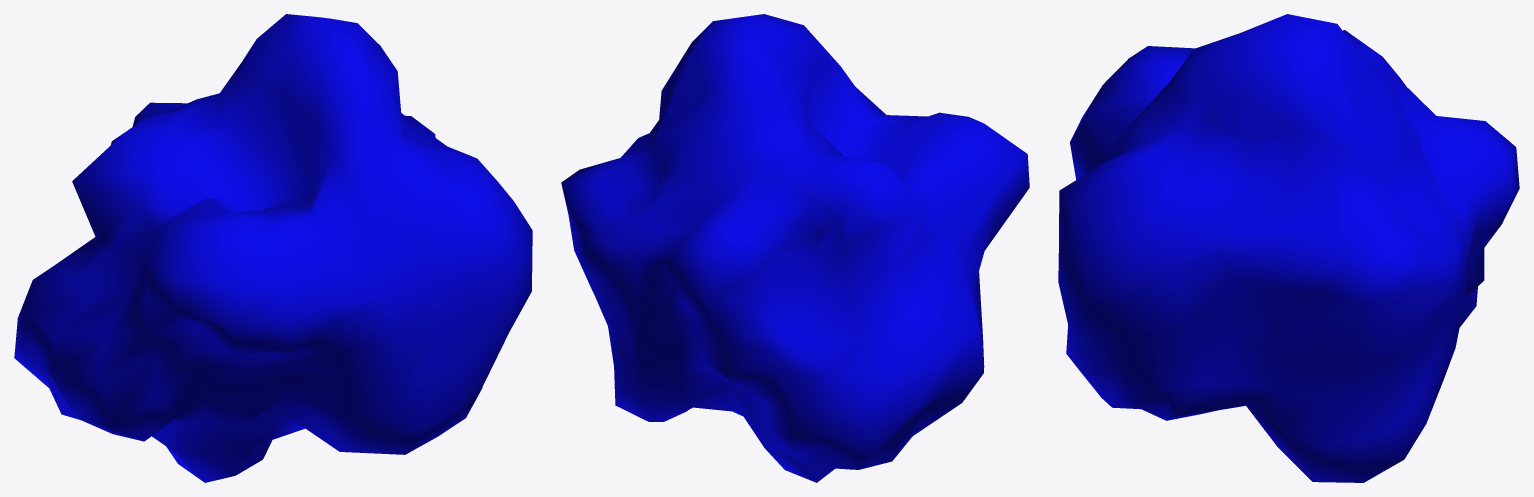
Rendered from popcorn_piece_01_high.fbx.
3 renders of one model, left to right at view 1: azimuth 30°, elevation 25°; view 2: azimuth 150°, elevation 25°; view 3: azimuth 270°, elevation 25°, orthographic. The views are drawn at different scales.
Visible parts, largest first — view 1: popcorn_piece_01; view 2: popcorn_piece_01; view 3: popcorn_piece_01.
Boxes of the visible parts, <box> form: popcorn_piece_01: <box>14,14,532,482</box>; popcorn_piece_01: <box>561,14,1029,482</box>; popcorn_piece_01: <box>1058,14,1519,482</box>.
Bounding box in the file's own units: 6.39 × 6.7 × 6.09.
